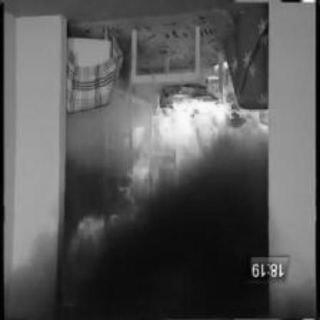Fire: (116, 83, 266, 219), (66, 220, 119, 304)
